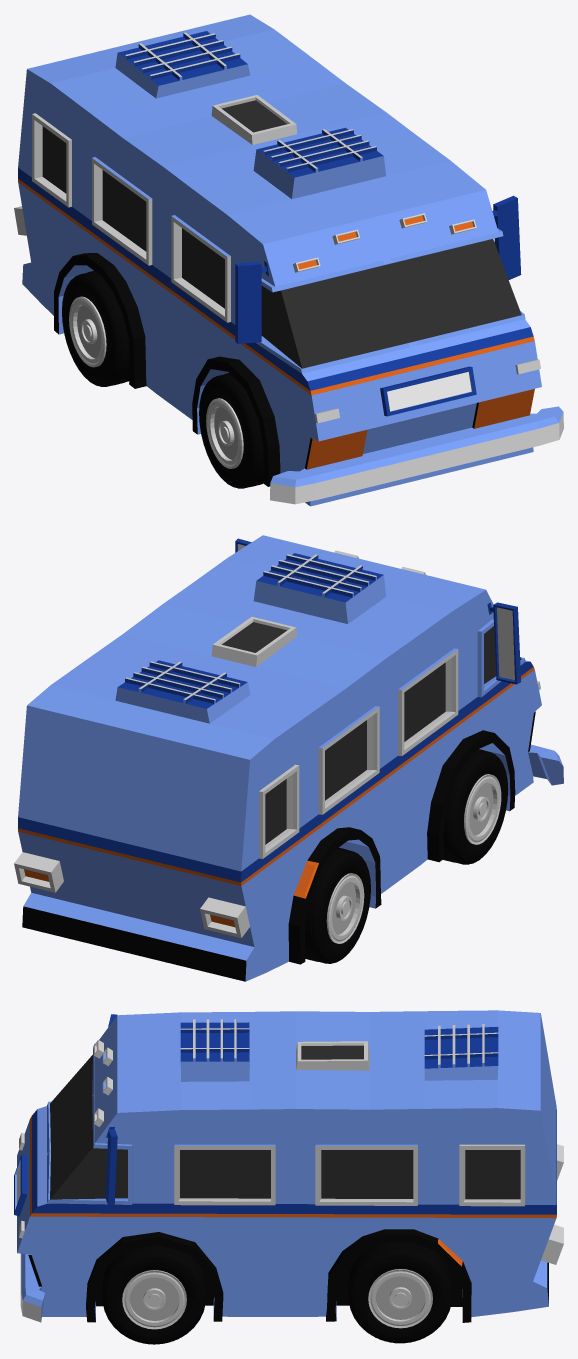
The picture shows the model from 3 angles, top to bottom: view 1: azimuth 30°, elevation 25°; view 2: azimuth 150°, elevation 25°; view 3: azimuth 270°, elevation 25°; orthographic projection. The views are drawn at different scales.
Visible parts, largest first — view 1: BODY49B, WHEEL.004, WHEEL.001; view 2: BODY49B, WHEEL.004, WHEEL.001; view 3: BODY49B, WHEEL.002, WHEEL.003.
Boxes of the visible parts, x1,y1,x2,y2 form: BODY49B: (14,14,563,506); WHEEL.004: (62,271,129,386); WHEEL.001: (199,373,263,488); BODY49B: (14,535,563,981); WHEEL.004: (305,847,370,963); WHEEL.001: (443,749,508,864); BODY49B: (14,1010,563,1322); WHEEL.002: (348,1242,452,1343); WHEEL.003: (102,1245,206,1344).
Size of the model in its own units: 152 by 139 by 275.
